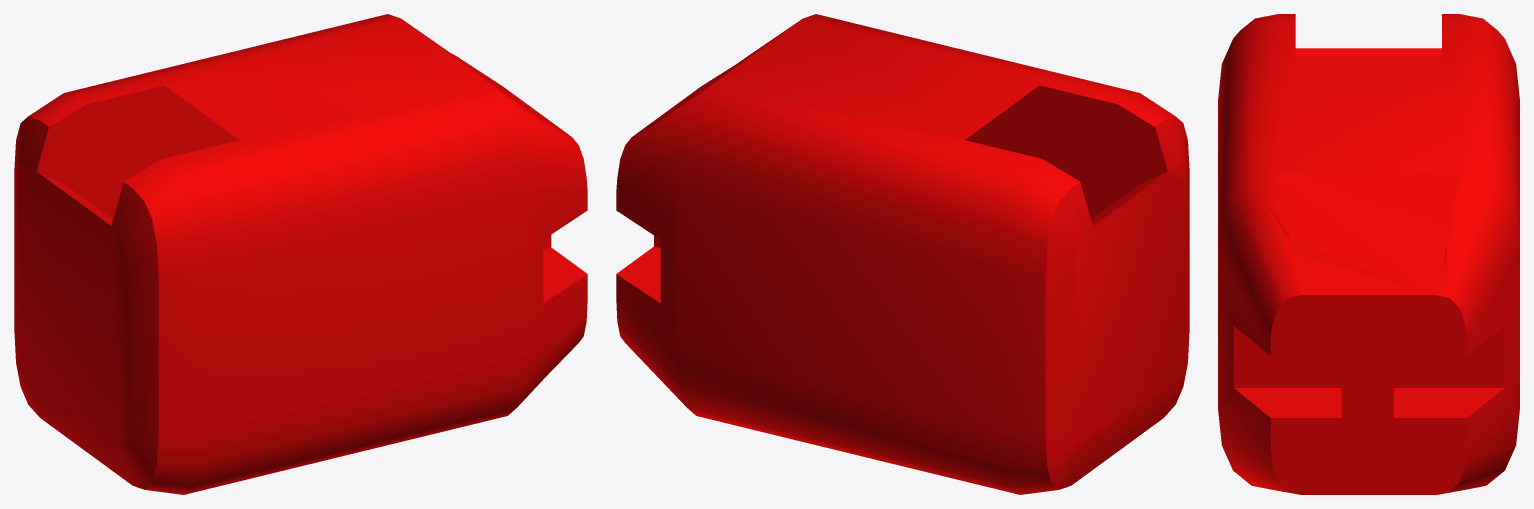
The model's file is BidonMediano.fbx.
3 renders of one model, left to right at view 1: azimuth 30°, elevation 25°; view 2: azimuth 150°, elevation 25°; view 3: azimuth 270°, elevation 25°, orthographic. The views are drawn at different scales.
Parts seen in each view (by area): view 1: Box001; view 2: Box001; view 3: Box001.
Part boxes in pixels (box(x1,y1,x2,y2)): Box001: box(14, 14, 587, 494); Box001: box(616, 14, 1189, 494); Box001: box(1218, 14, 1519, 494).
Size of the model in its own units: 10.35 by 6.92 by 5.96.
